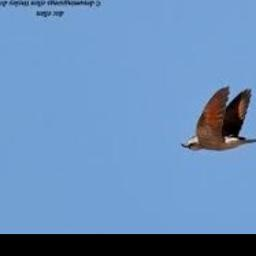Cuckoo: (182, 89, 256, 152)
